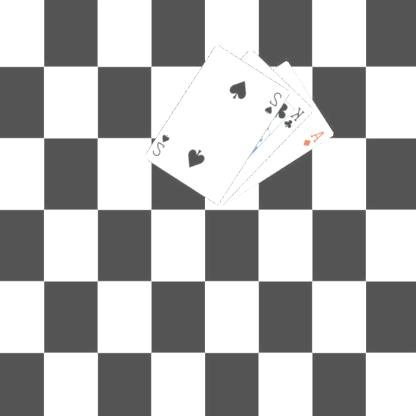2S: (264, 88, 286, 116), (151, 131, 173, 158)
AD: (302, 128, 328, 148)
KC: (278, 104, 308, 130)
